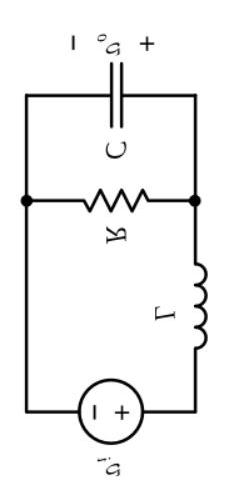Capacitor: (91, 47, 138, 137)
